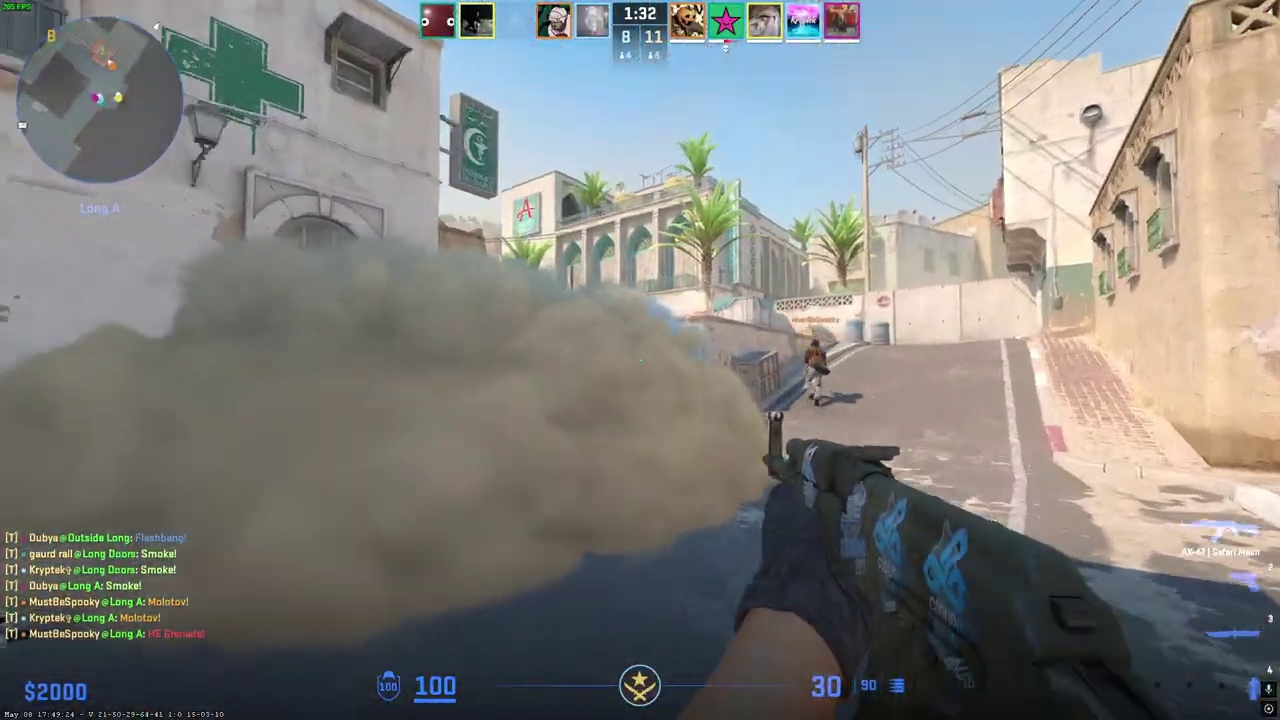Terrorist: (805, 338, 829, 407)
